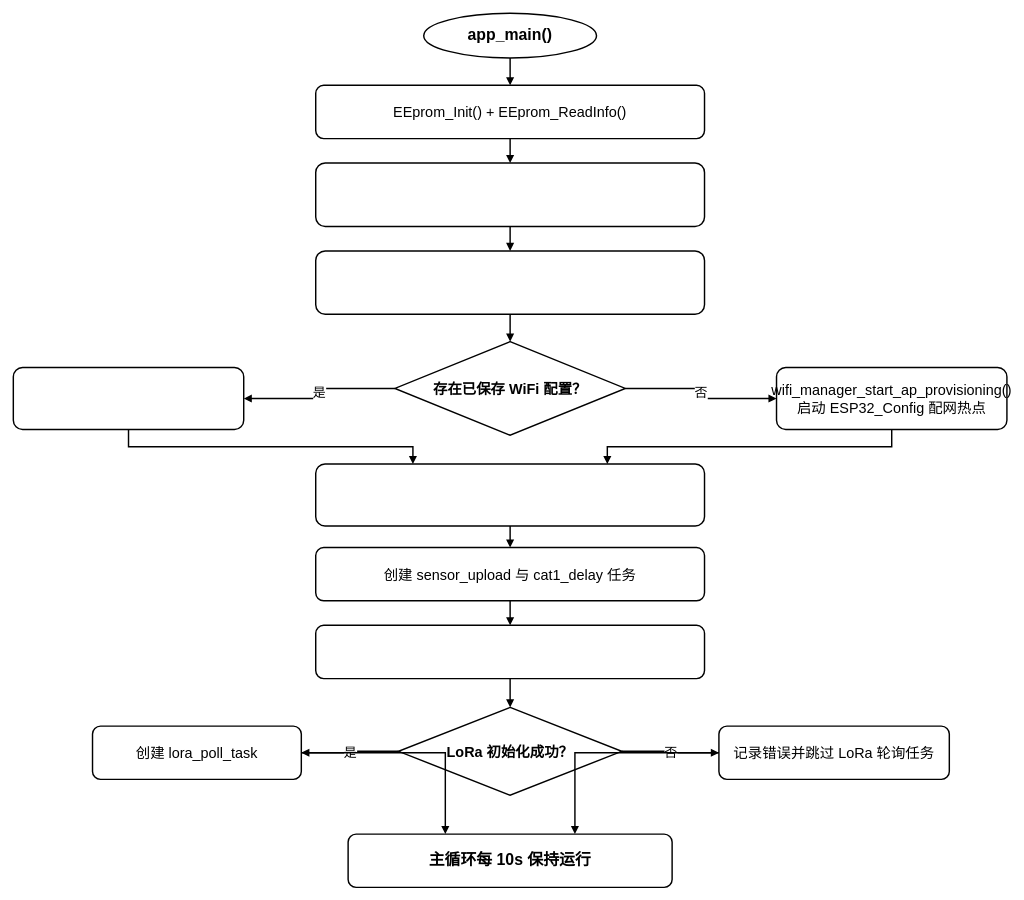
The diagram is 1024 pixels wide and 900 high, and some of its shapes have lost their labels. Each missing label, with the centre of its shape:
"bsp_led_init() + wifi_manager_init() 注册 wifi_state_callback" goes at [510,282].
"iic_sensor_task_start() 启动空气传感器采集任务" goes at [510,494].
"soil_sensor_init() + LoRa_Init()" goes at [510,651].
"wifi_manager_connect() 连接历史 SSID / Password" goes at [128,398].
"配置土壤传感器供电引脚 WiFi_Cat1_InitGPIO() 并默认关闭 Cat1" goes at [510,194].
